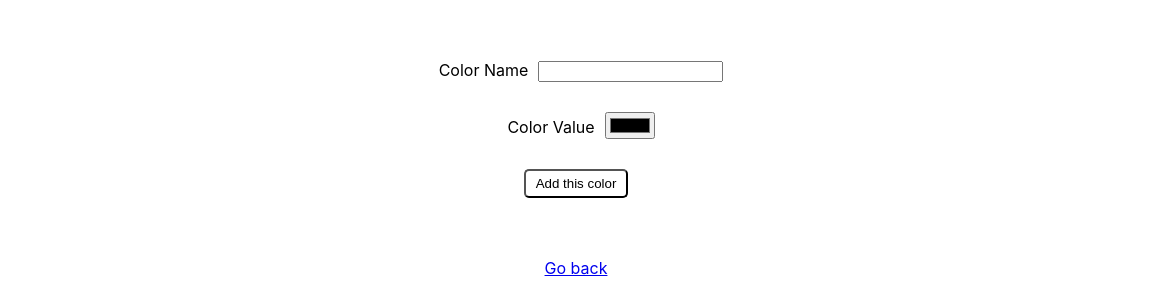
Test: if add a color works
Expected: the text "yellow" is not shown
In the field labelled "Color Name": (631, 72) x1=538 y1=61 x2=723 y2=82, type "yellow"
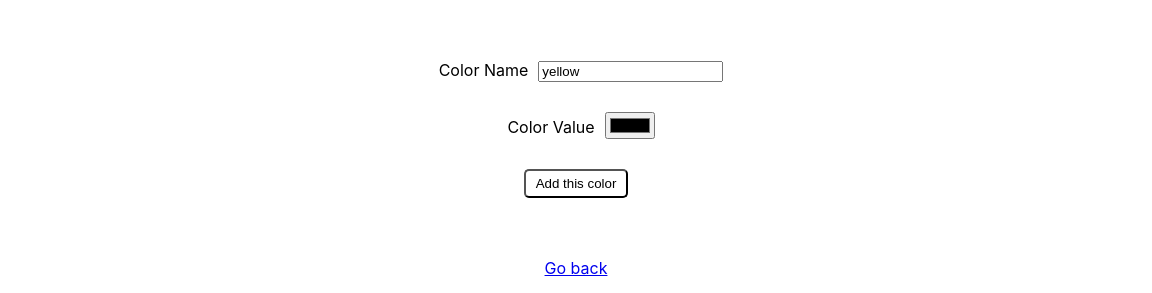
In the colour field labelled "Color Value": (630, 126) x1=605 y1=112 x2=655 y2=139, type "#FFFF00"
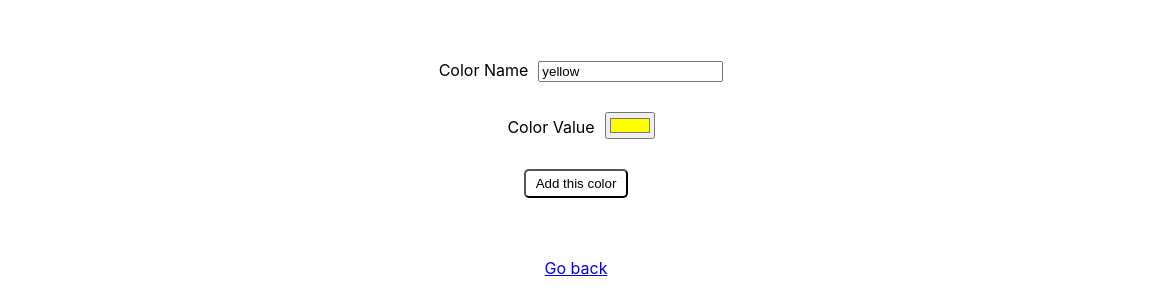
Click the button "Add this color": (576, 184) x1=524 y1=169 x2=628 y2=198
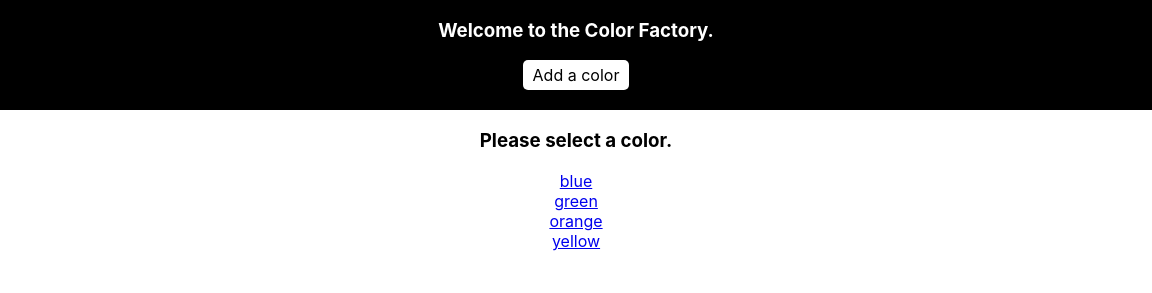
Expected: the link "yellow" is shown, x1=552 y1=231 x2=600 y2=251
